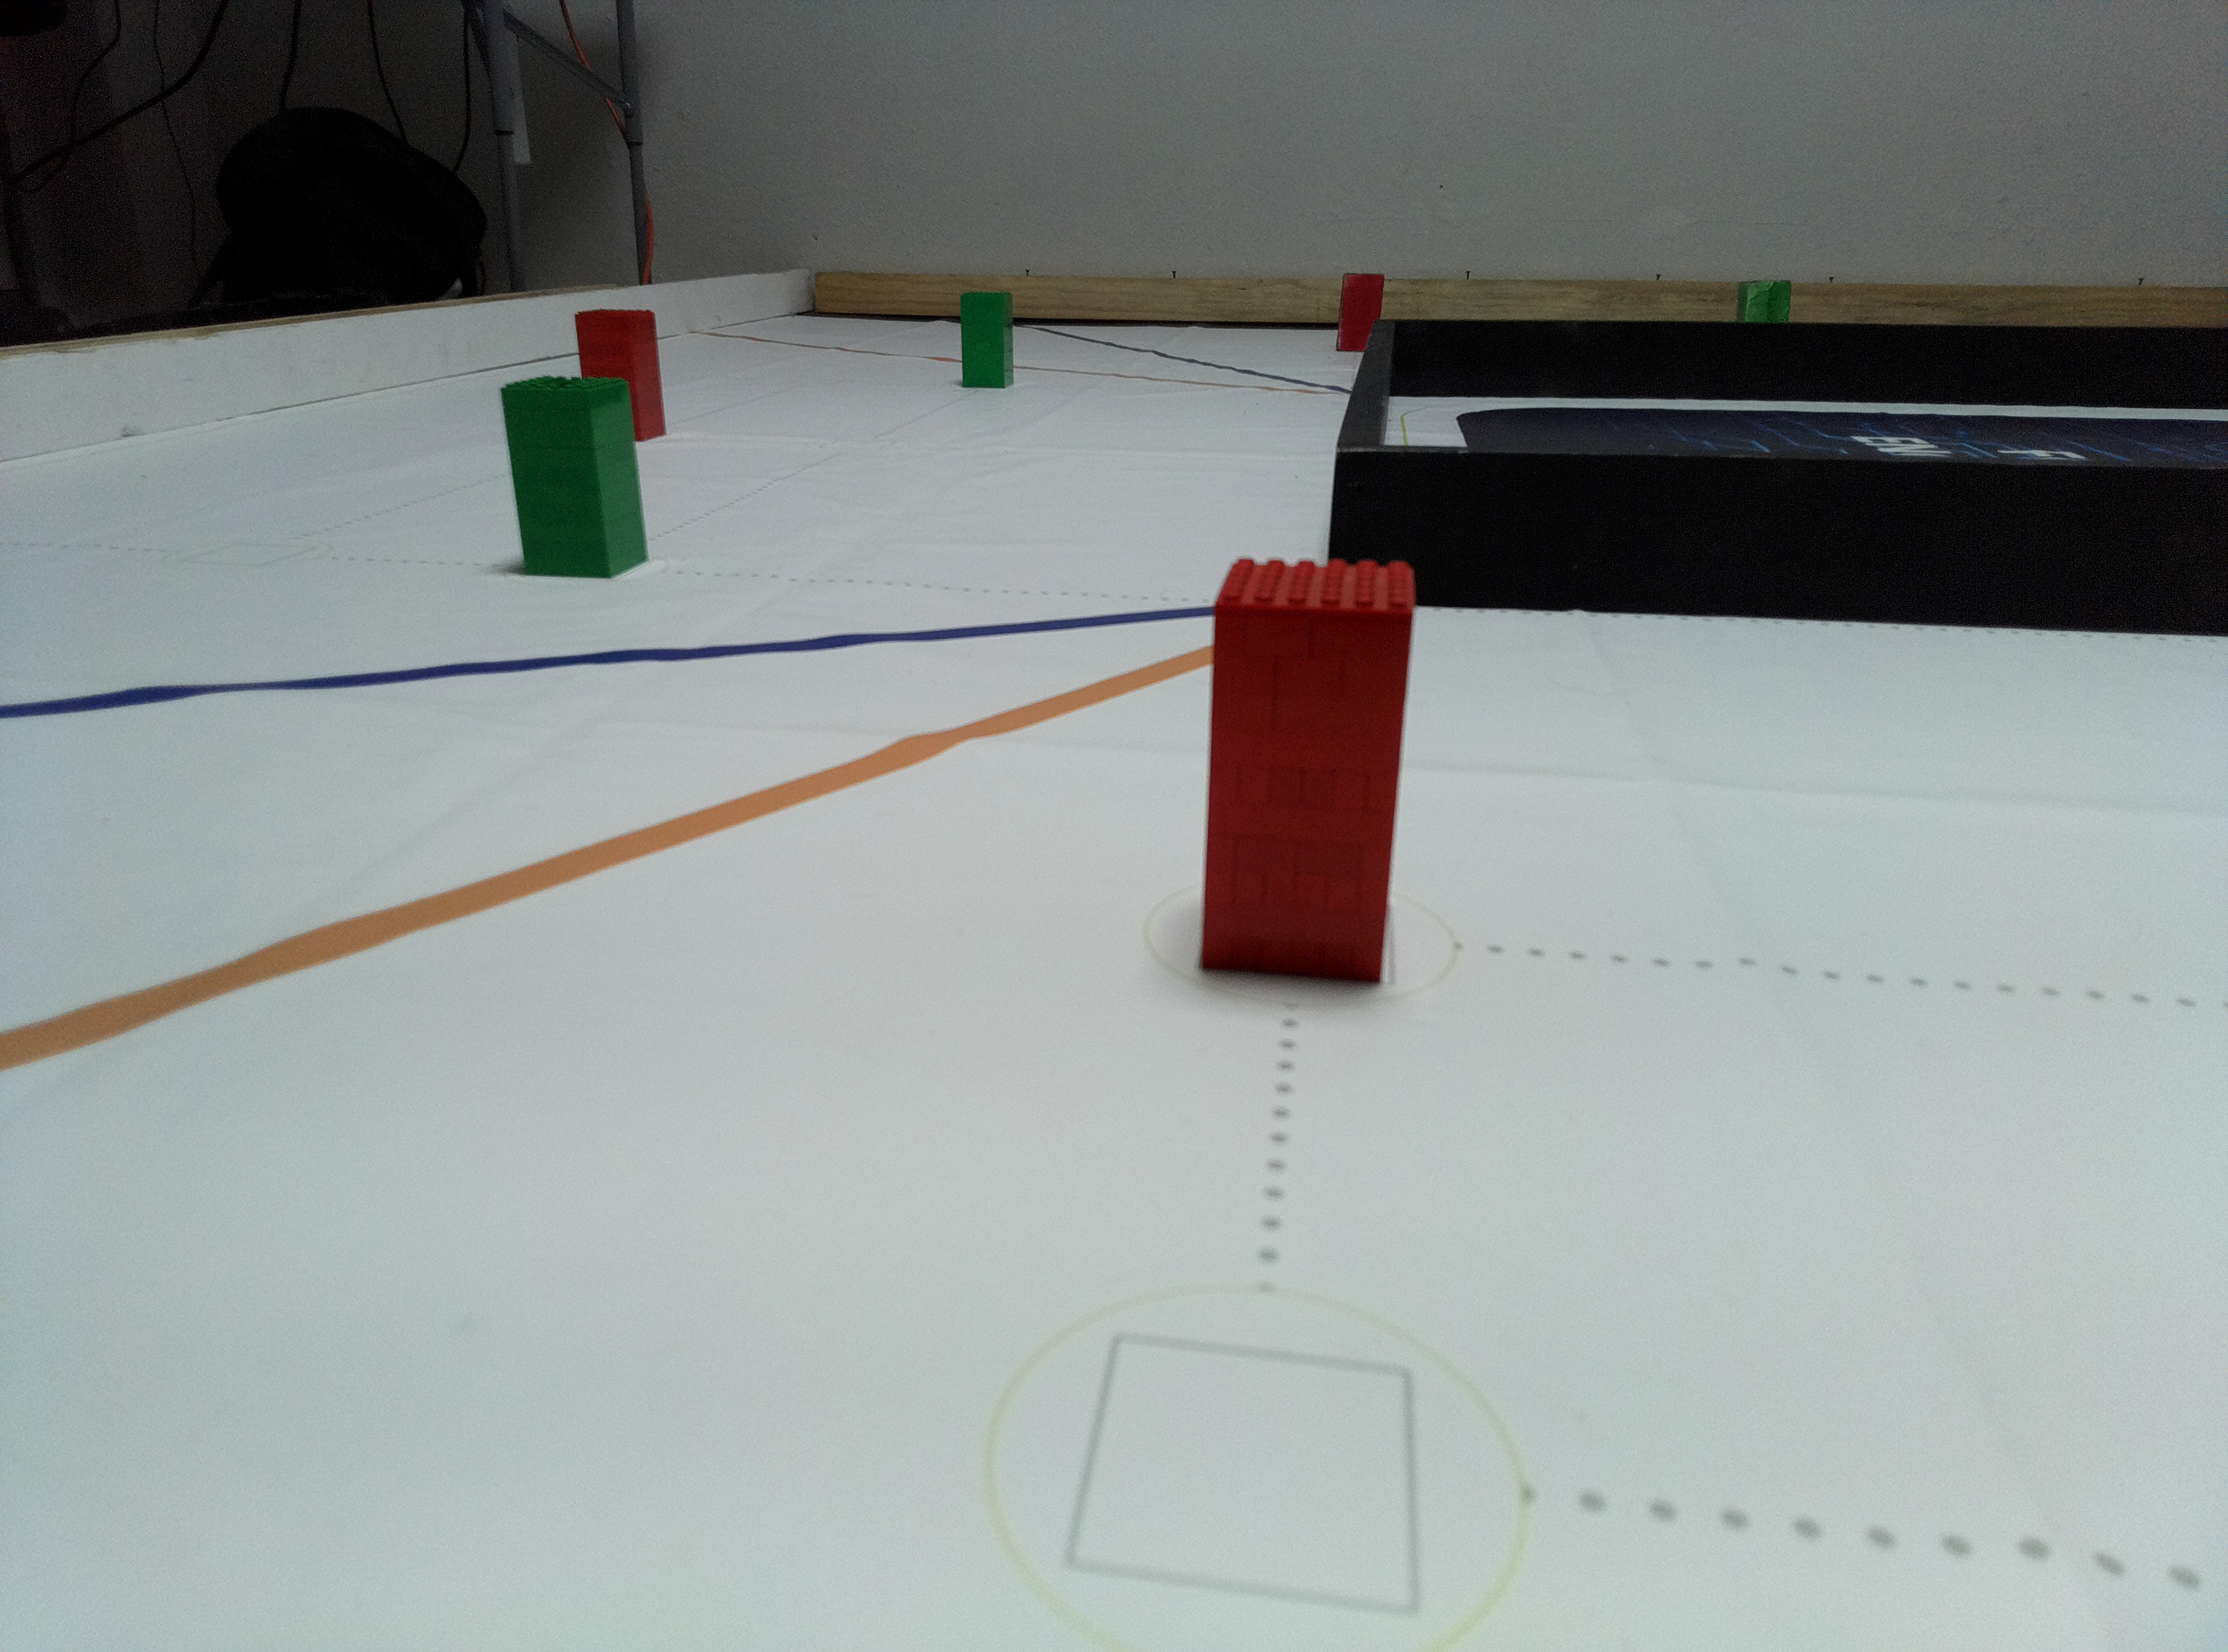greenbox: (500, 376, 652, 580), (956, 289, 1016, 390), (1736, 278, 1793, 324)
redbox: (1193, 557, 1423, 992), (572, 307, 668, 443), (1336, 268, 1386, 357)
